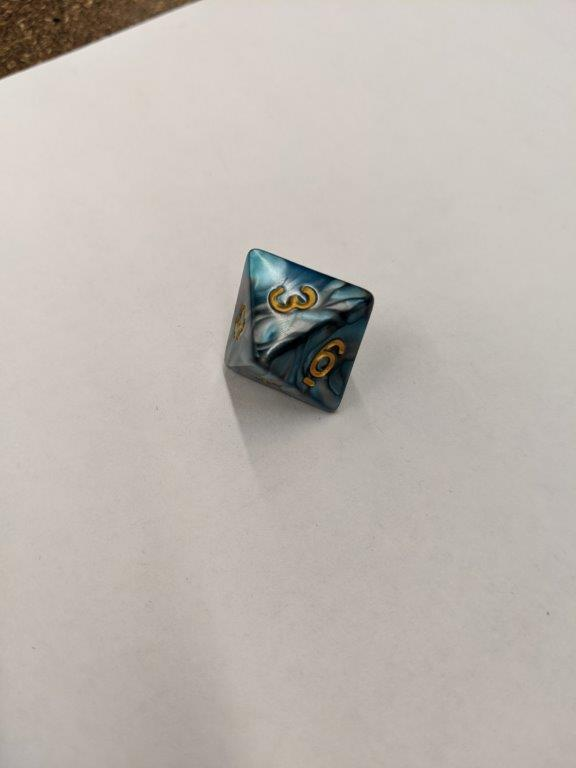d8-3: (223, 246, 375, 414)
